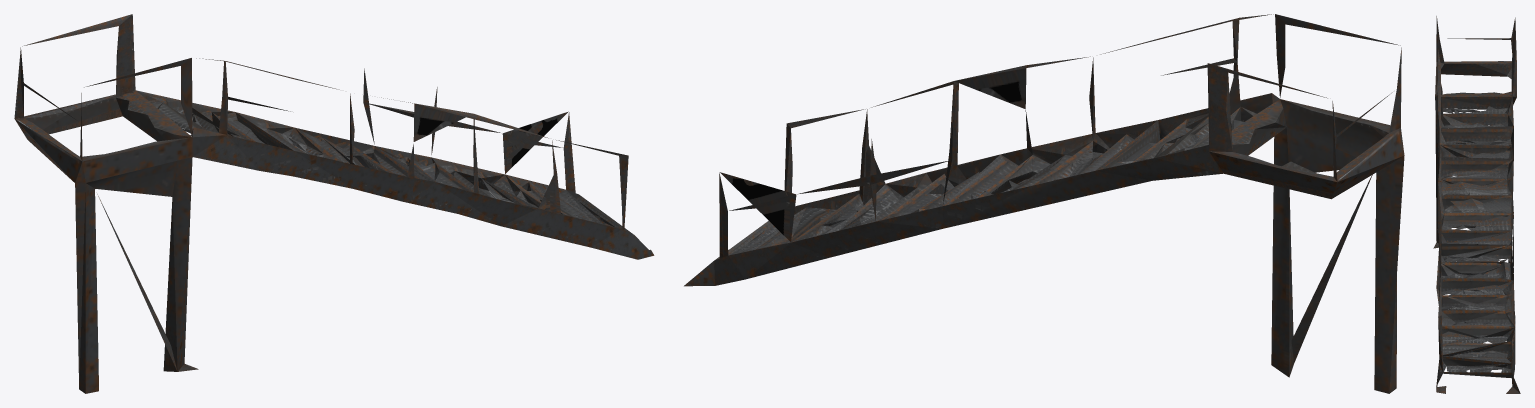
File: Meshy_AI_model.glb
3 views of the same model, side by side, from view 1: azimuth 30°, elevation 25°; view 2: azimuth 150°, elevation 25°; view 3: azimuth 270°, elevation 25° (orthographic). The views are drawn at different scales.
Parts seen in each view (by area): view 1: output_unwrapped; view 2: output_unwrapped; view 3: output_unwrapped.
Boxes of the visible parts, x1=… form: output_unwrapped: x1=14, y1=14, x2=654, y2=393; output_unwrapped: x1=684, y1=14, x2=1404, y2=393; output_unwrapped: x1=1433, y1=16, x2=1520, y2=393.
Size of the model in its own units: 1.9 by 0.9819 by 0.3838.
1 material, 1 textured.
